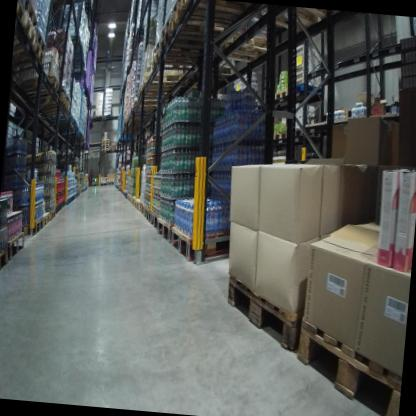pallet: (285, 311, 405, 416), (218, 265, 307, 356), (167, 205, 265, 273), (166, 0, 257, 41), (251, 6, 332, 36), (151, 46, 216, 78), (214, 35, 269, 69), (160, 30, 222, 58), (13, 42, 49, 82), (140, 72, 201, 95), (18, 72, 62, 103), (14, 7, 40, 51), (155, 213, 186, 248), (31, 90, 68, 112), (5, 231, 28, 266), (33, 98, 73, 118), (24, 0, 42, 39), (291, 82, 326, 101), (30, 21, 49, 54), (13, 215, 44, 234), (207, 61, 238, 79), (157, 8, 169, 48), (0, 242, 12, 278), (270, 119, 287, 143), (272, 84, 291, 105), (286, 126, 304, 145), (43, 0, 75, 10), (150, 211, 163, 234), (16, 0, 27, 24), (44, 206, 57, 223), (145, 204, 154, 224), (42, 211, 51, 228), (152, 36, 159, 56), (142, 203, 149, 221), (53, 202, 61, 216), (139, 200, 145, 216), (98, 181, 107, 191), (134, 199, 140, 211), (132, 194, 137, 207), (100, 148, 109, 153), (101, 137, 110, 142), (107, 181, 114, 187), (109, 146, 116, 151), (101, 143, 109, 147), (101, 141, 109, 145), (102, 146, 109, 150)
